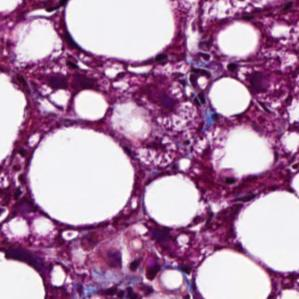inflammation: (181, 64, 215, 124), (99, 275, 156, 299)
